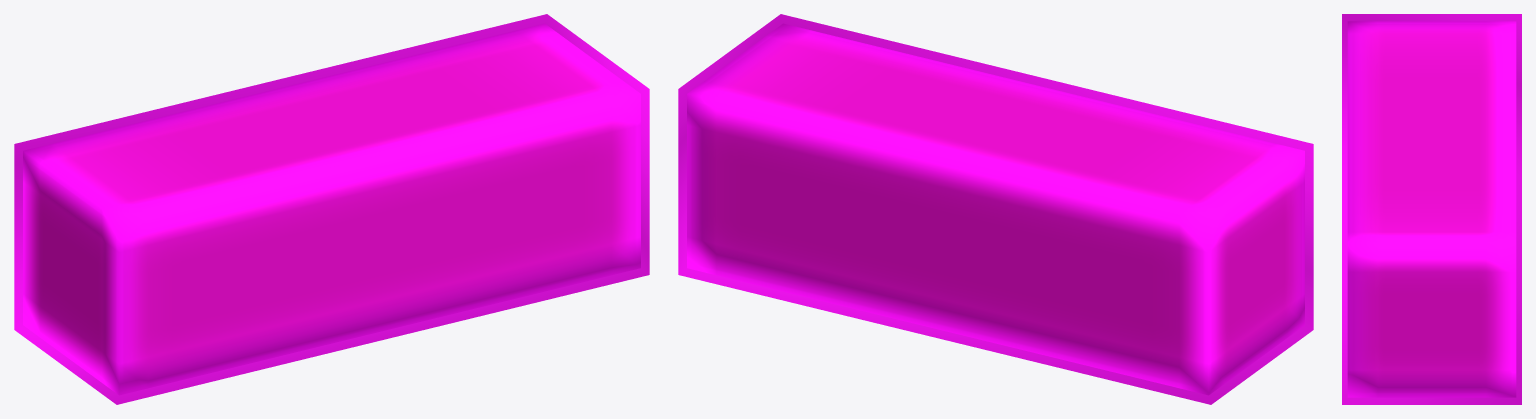
The model's file is rubber_box.gltf.
The picture shows the model from 3 angles, left to right: view 1: azimuth 30°, elevation 25°; view 2: azimuth 150°, elevation 25°; view 3: azimuth 270°, elevation 25°; orthographic projection. The views are drawn at different scales.
Visible parts, largest first — view 1: rubber_box_glb.001, rubber_box_glb.002; view 2: rubber_box_glb.001, rubber_box_glb.002; view 3: rubber_box_glb.001, rubber_box_glb.002.
Part boxes in pixels (x1=…): rubber_box_glb.001: x1=23, y1=23, x2=640, y2=395; rubber_box_glb.002: x1=14, y1=14, x2=649, y2=404; rubber_box_glb.001: x1=687, y1=23, x2=1304, y2=395; rubber_box_glb.002: x1=678, y1=14, x2=1313, y2=404; rubber_box_glb.001: x1=1347, y1=21, x2=1516, y2=397; rubber_box_glb.002: x1=1342, y1=14, x2=1521, y2=404.
Size of what is drawn, in the model's own units: 3 by 1 by 1.
Materials: 2 (2 with a texture image).
